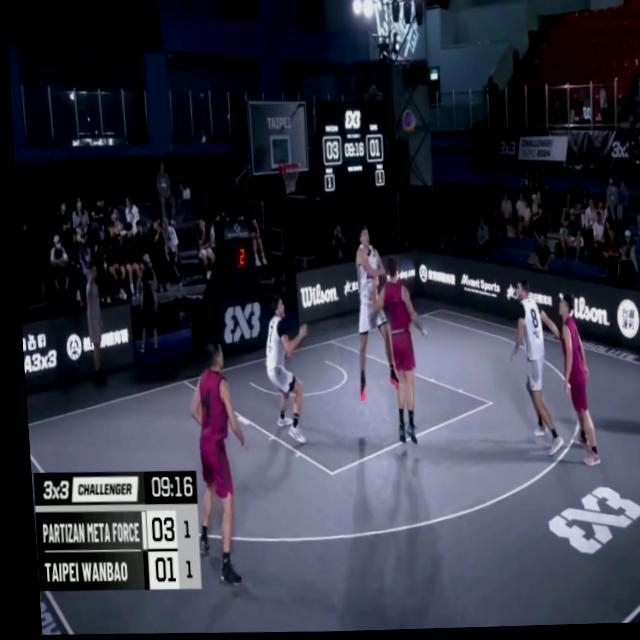ball: (396, 106, 415, 139)
hoop: (275, 159, 298, 195)
player: (178, 341, 249, 587), (362, 257, 426, 450), (497, 282, 562, 462), (547, 293, 599, 470), (344, 227, 395, 403), (254, 296, 308, 450)
